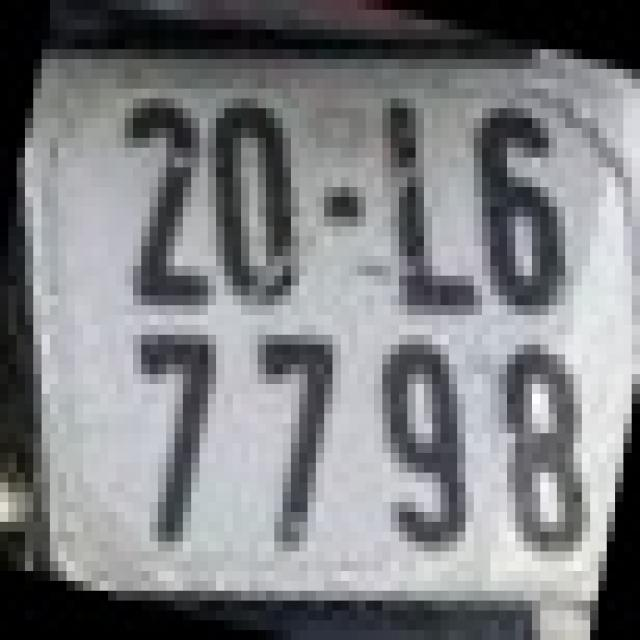0: (216, 98, 299, 306)
2: (116, 89, 216, 305)
6: (474, 99, 565, 315)
7: (258, 325, 340, 551), (133, 325, 216, 541)
8: (499, 344, 590, 552)
9: (374, 335, 474, 551)
L: (382, 99, 482, 315)
